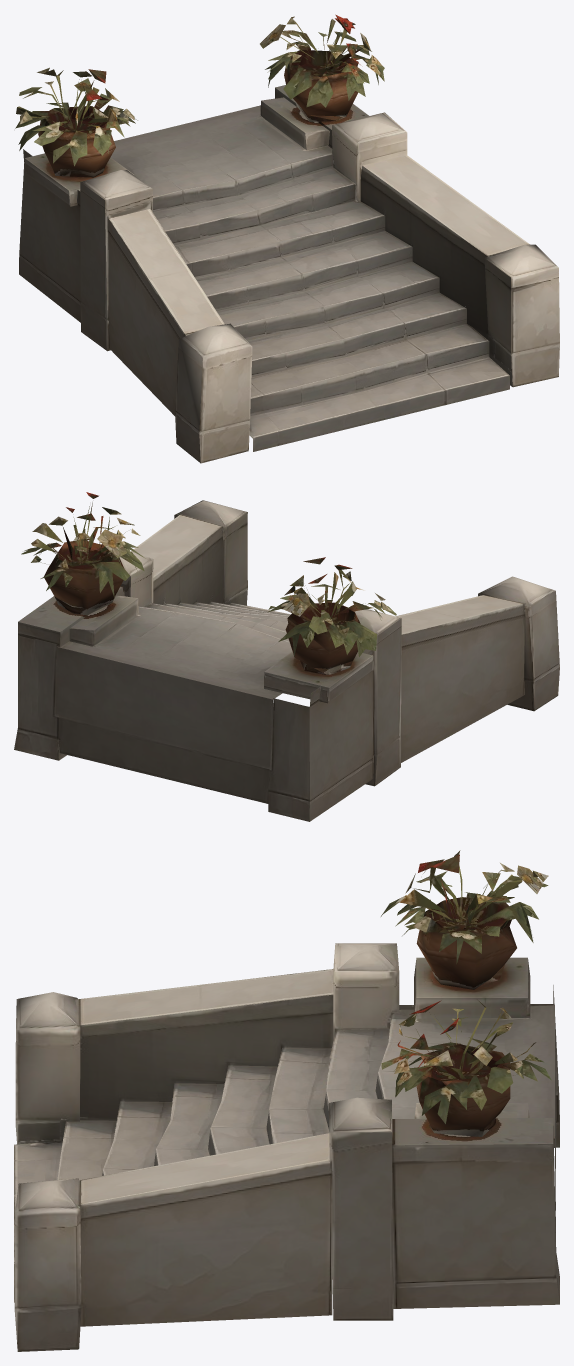
Rendered from act1_extras_v1_hilltop_steps.glb.
3 views of the same model, one above another, from view 1: azimuth 30°, elevation 25°; view 2: azimuth 150°, elevation 25°; view 3: azimuth 270°, elevation 25° (orthographic). The views are drawn at different scales.
Visible parts, largest first — view 1: A18_6_hilltop_steps; view 2: A18_6_hilltop_steps; view 3: A18_6_hilltop_steps.
Part boxes in pixels (bbox=[...]): A18_6_hilltop_steps: bbox=[15, 14, 559, 463]; A18_6_hilltop_steps: bbox=[14, 492, 559, 821]; A18_6_hilltop_steps: bbox=[14, 850, 559, 1351].
Bounding box in the file's own units: 0.9814 × 0.6421 × 0.999.
1 material, 1 textured.
